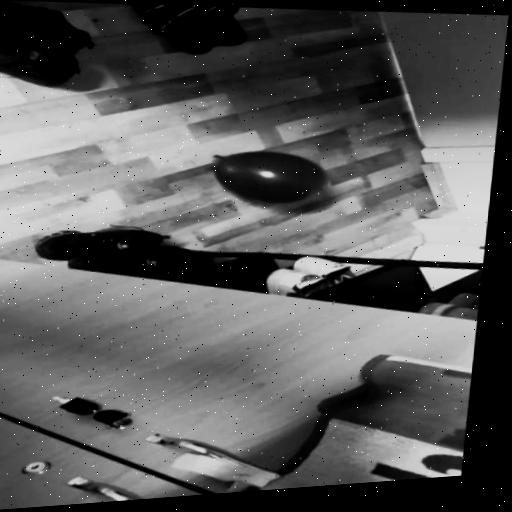balloon: (198, 126, 345, 213)
